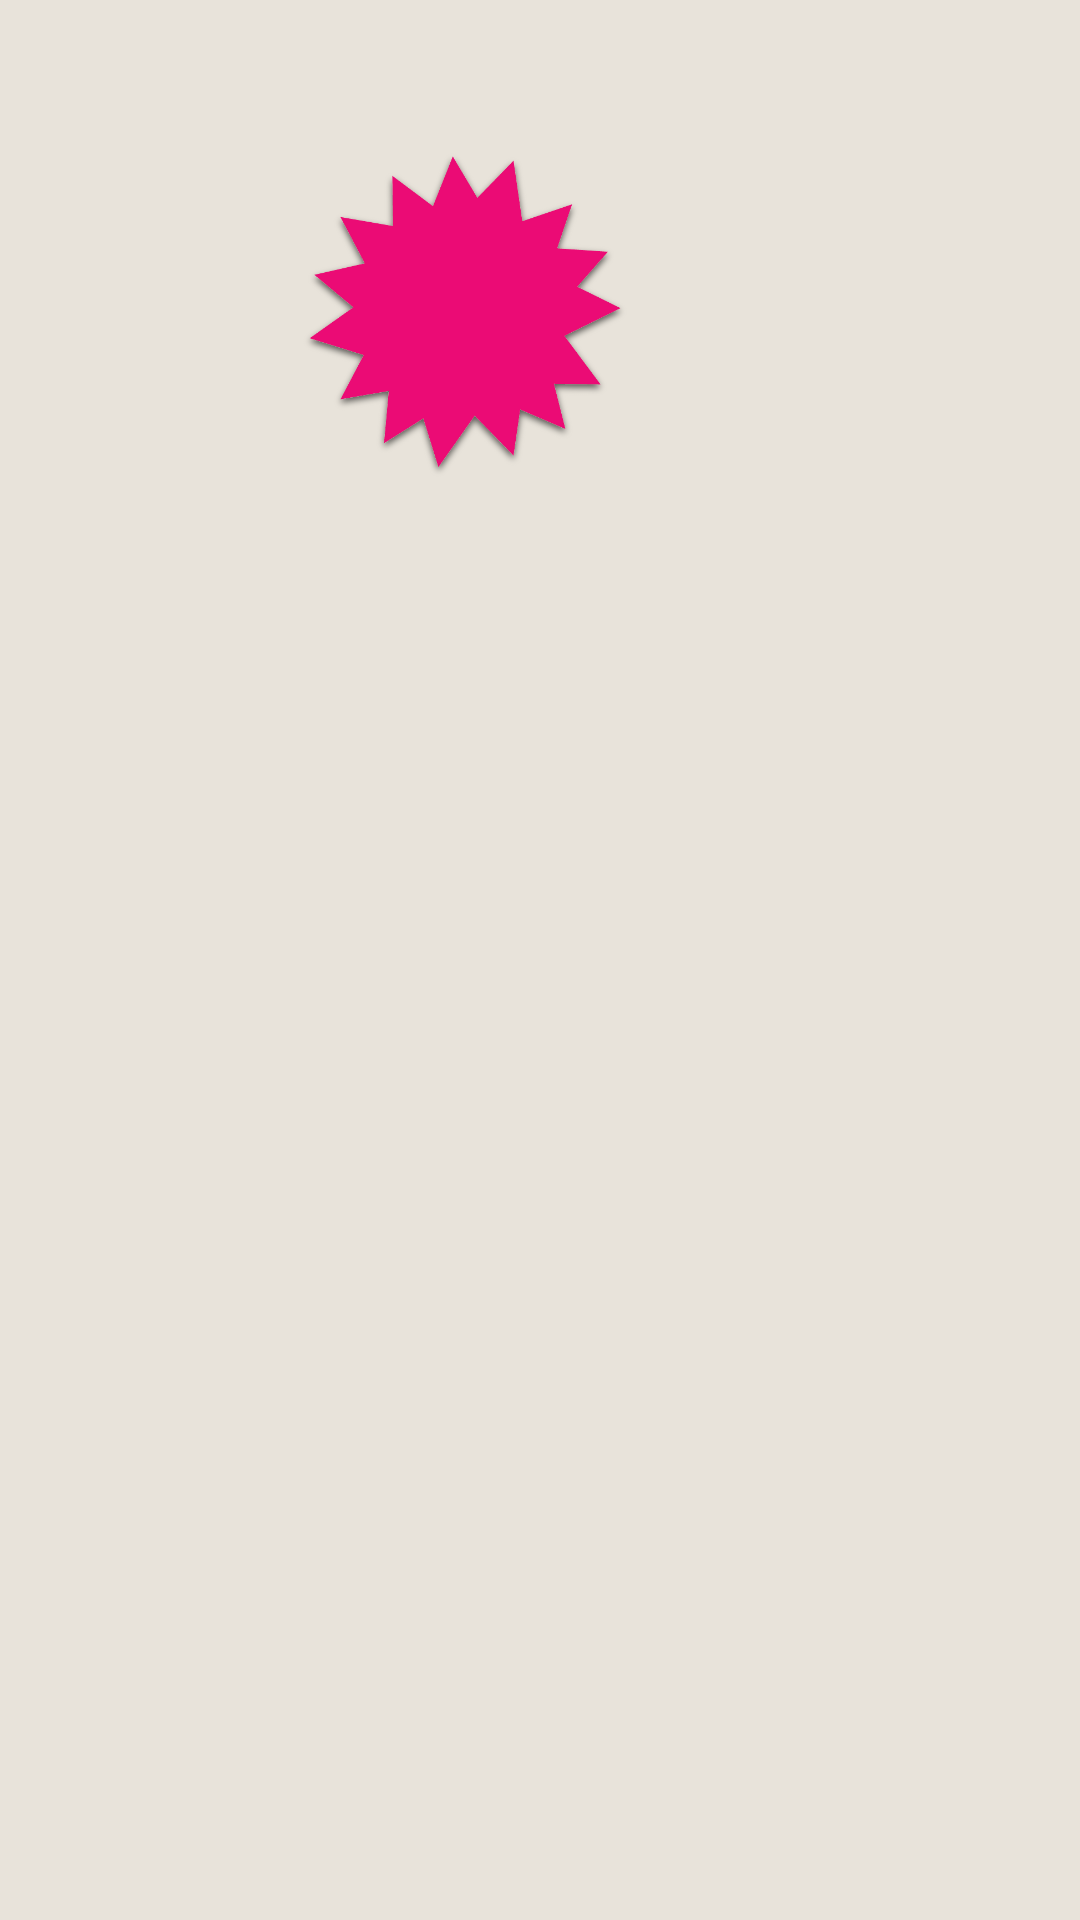

Screen size 1080 x 1920. Icon name, then its box in pixels as (x1, y1, x2, y2):
etoile: (310, 156, 621, 470)
